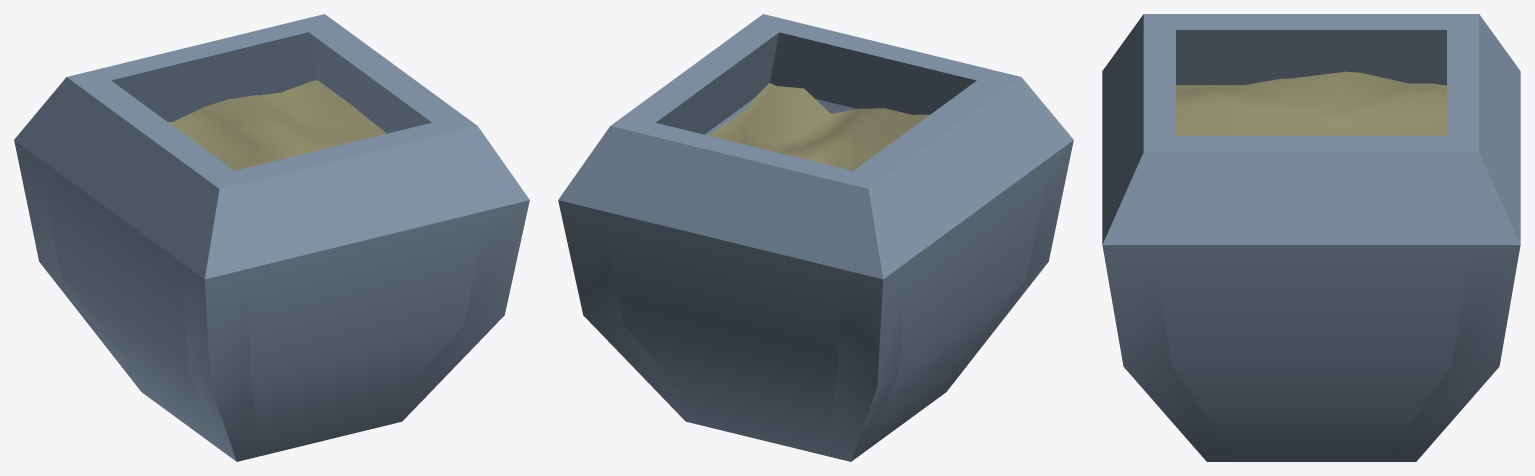
Rendered from maceta_A.fbx.
The picture shows the model from 3 angles, left to right: view 1: azimuth 30°, elevation 25°; view 2: azimuth 150°, elevation 25°; view 3: azimuth 270°, elevation 25°; orthographic projection. The views are drawn at different scales.
Visible parts, largest first — view 1: polySurface28; view 2: polySurface28; view 3: polySurface28.
Part boxes in pixels (left/top/right/bottom): polySurface28: left=14, top=14, right=529, bottom=461; polySurface28: left=558, top=14, right=1073, bottom=461; polySurface28: left=1102, top=14, right=1520, bottom=461.
Bounding box in the file's own units: 2.73 × 2.45 × 2.77.
